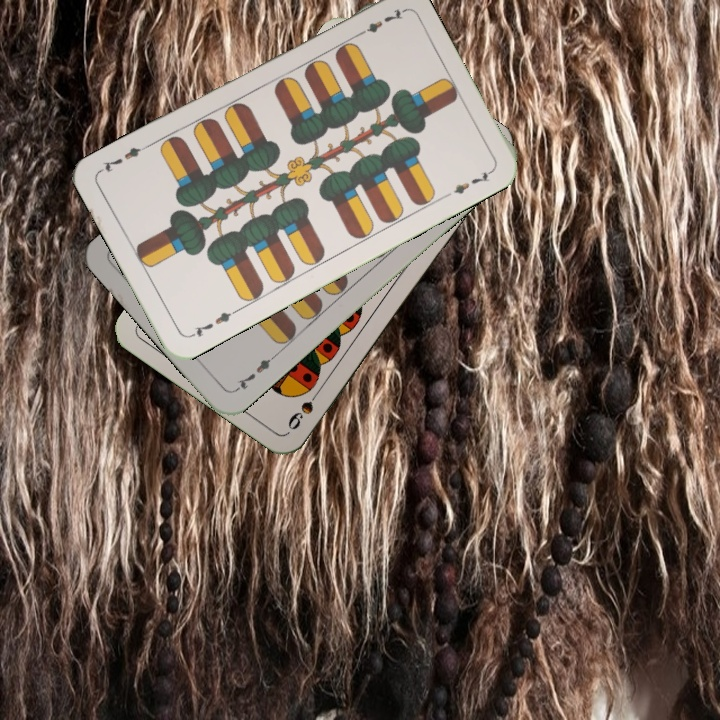E7: (230, 351, 279, 395), (351, 5, 406, 40), (185, 306, 240, 340)
S9: (283, 382, 326, 433)
